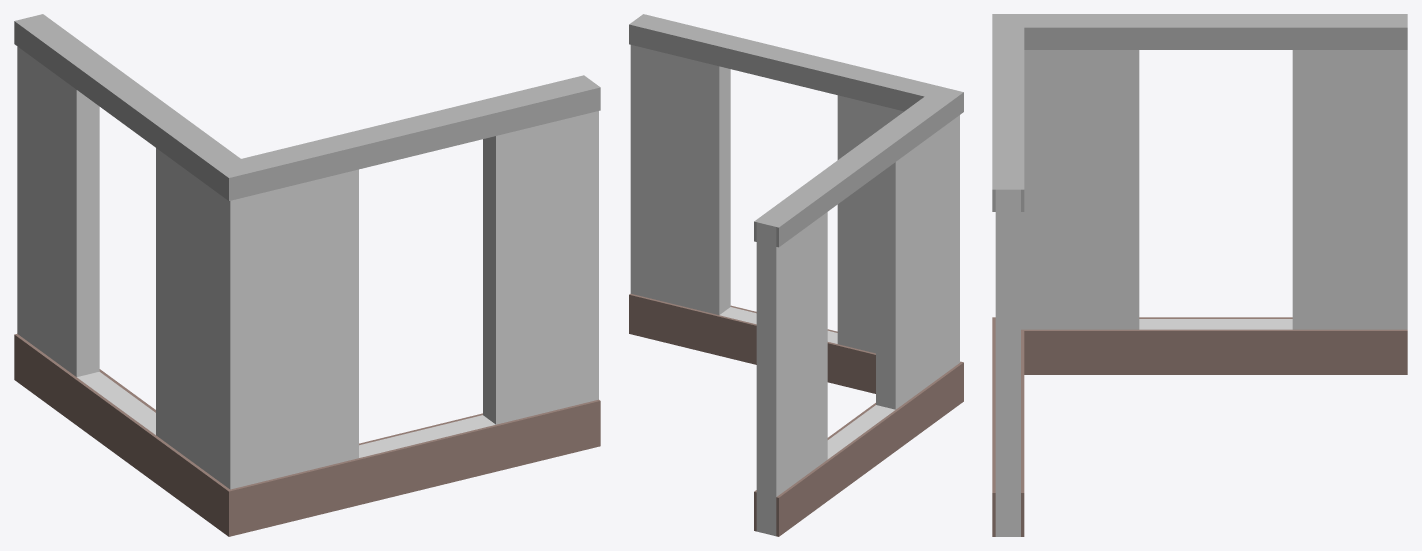
The model's file is Wall06-06.fbx.
3 views of the same model, side by side, from view 1: azimuth 30°, elevation 25°; view 2: azimuth 150°, elevation 25°; view 3: azimuth 270°, elevation 25° (orthographic). The views are drawn at different scales.
Parts seen in each view (by area): view 1: Wall06-06; view 2: Wall06-06; view 3: Wall06-06.
Boxes of the visible parts, box(x1,y1,x2,y2) form: Wall06-06: box(14, 14, 600, 536); Wall06-06: box(629, 14, 963, 536); Wall06-06: box(992, 14, 1407, 536).
Bounding box in the file's own units: 3.25 × 3.25 × 3.
